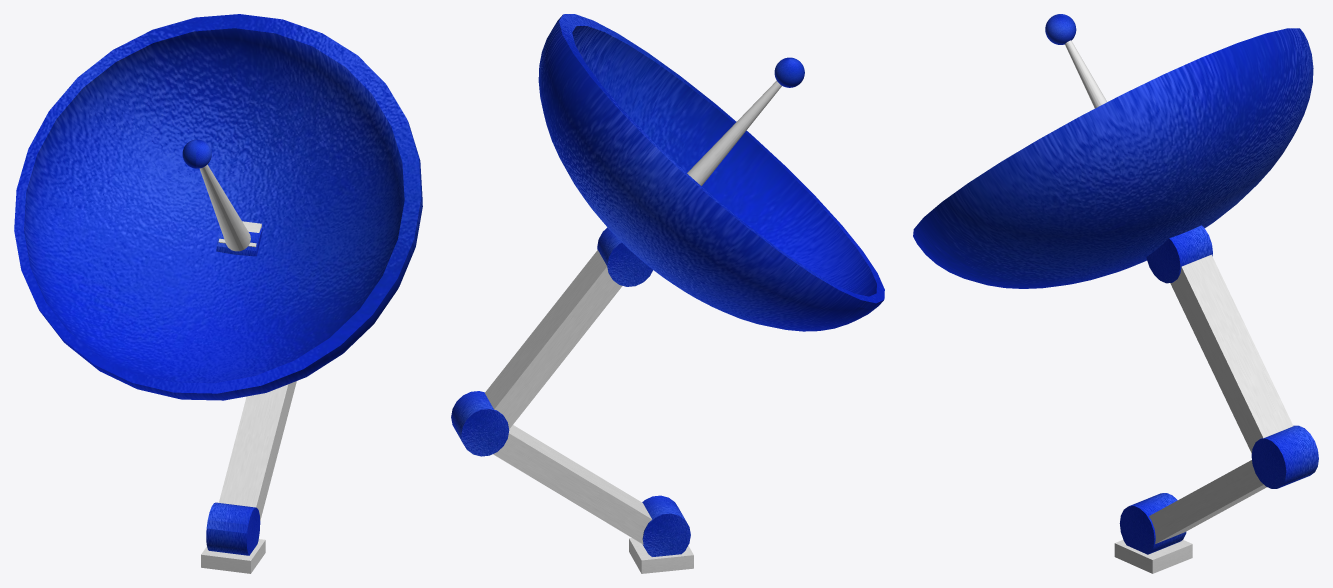
Rendered from Antena_Telecom.obj.
3 views of the same model, side by side, from view 1: azimuth 30°, elevation 25°; view 2: azimuth 150°, elevation 25°; view 3: azimuth 270°, elevation 25° (orthographic). The views are drawn at different scales.
Parts seen in each view (by area): view 1: Antena_Telecom:polySurface2961, Antena_Telecom:pCube468, Antena_Telecom:pCylinder12, Antena_Telecom:pCylinder15, Antena_Telecom:pCube465, Antena_Telecom:pSphere37, Antena_Telecom:pCylinder14; view 2: Antena_Telecom:polySurface2961, Antena_Telecom:pCube21, Antena_Telecom:pCube468, Antena_Telecom:pCylinder43, Antena_Telecom:pCylinder12, Antena_Telecom:pCylinder15, Antena_Telecom:pCylinder14, Antena_Telecom:pCube465, Antena_Telecom:pSphere37; view 3: Antena_Telecom:polySurface2961, Antena_Telecom:pCube21, Antena_Telecom:pCube468, Antena_Telecom:pCylinder43, Antena_Telecom:pCylinder14, Antena_Telecom:pCylinder12, Antena_Telecom:pCube465, Antena_Telecom:pCylinder15, Antena_Telecom:pSphere37.
Part boxes in pixels (x1,y1,x2,y2): Antena_Telecom:polySurface2961: (14, 14, 422, 400); Antena_Telecom:pCube468: (219, 381, 296, 520); Antena_Telecom:pCylinder12: (206, 502, 260, 555); Antena_Telecom:pCylinder15: (199, 164, 250, 251); Antena_Telecom:pCube465: (201, 539, 265, 573); Antena_Telecom:pSphere37: (182, 139, 211, 168); Antena_Telecom:pCylinder14: (216, 228, 262, 256); Antena_Telecom:polySurface2961: (538, 14, 884, 331); Antena_Telecom:pCube21: (485, 250, 622, 429); Antena_Telecom:pCube468: (493, 425, 651, 544); Antena_Telecom:pCylinder43: (451, 391, 509, 456); Antena_Telecom:pCylinder12: (642, 495, 690, 556); Antena_Telecom:pCylinder15: (687, 80, 781, 185); Antena_Telecom:pCylinder14: (597, 227, 652, 286); Antena_Telecom:pCube465: (629, 538, 693, 573); Antena_Telecom:pSphere37: (774, 57, 804, 87); Antena_Telecom:polySurface2961: (913, 28, 1313, 288); Antena_Telecom:pCube21: (1170, 254, 1293, 453); Antena_Telecom:pCube468: (1149, 460, 1266, 543); Antena_Telecom:pCylinder43: (1251, 425, 1318, 488); Antena_Telecom:pCylinder14: (1146, 225, 1212, 283); Antena_Telecom:pCylinder12: (1119, 493, 1186, 554); Antena_Telecom:pCube465: (1114, 540, 1192, 573); Antena_Telecom:pCylinder15: (1065, 40, 1106, 108); Antena_Telecom:pSphere37: (1045, 14, 1076, 44).
Bounding box in the file's own units: 1.29 × 1.86 × 1.27.
2 materials, 2 textured.
